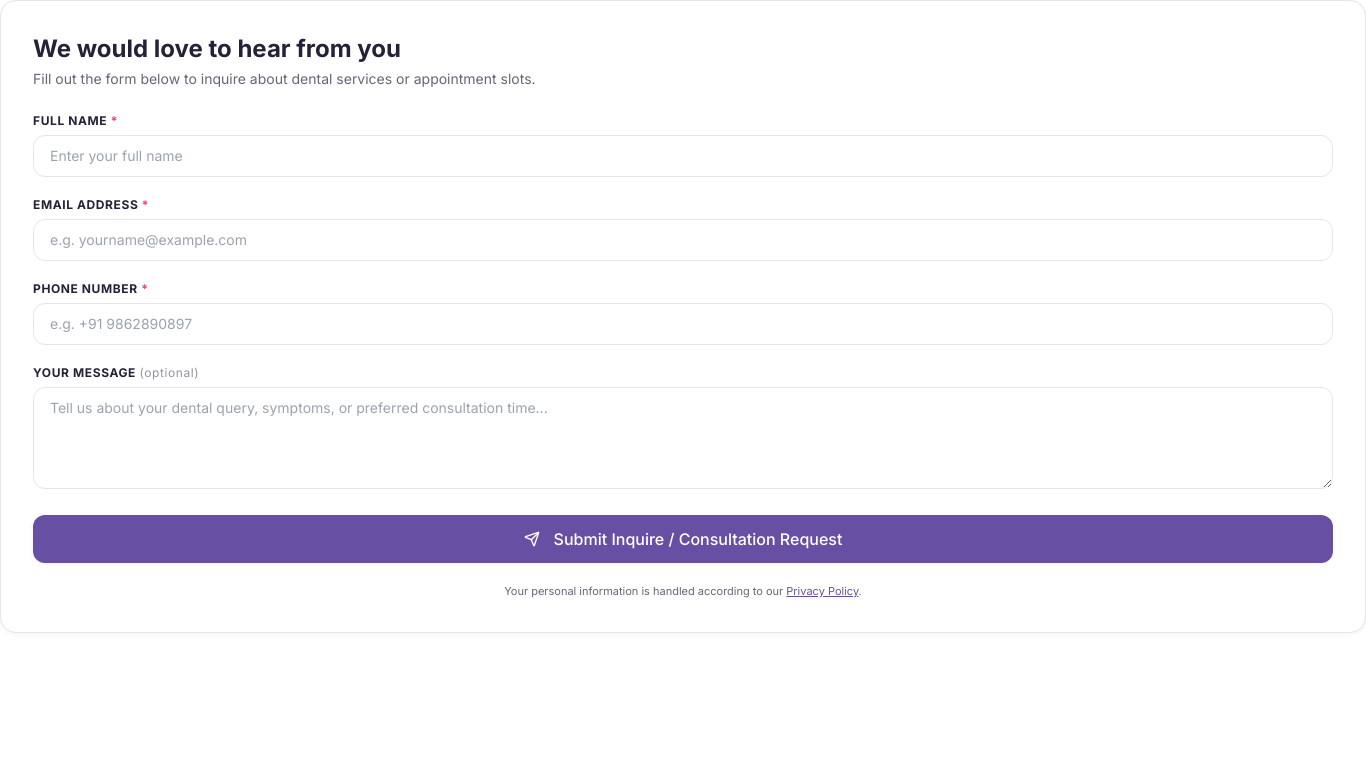
Test case: ContactForm Component › validates invalid email format
Type "invalid-email" into the field labelled "Email Address *".
click(683, 240); type("invalid-email")  # box [33, 219, 1333, 261]
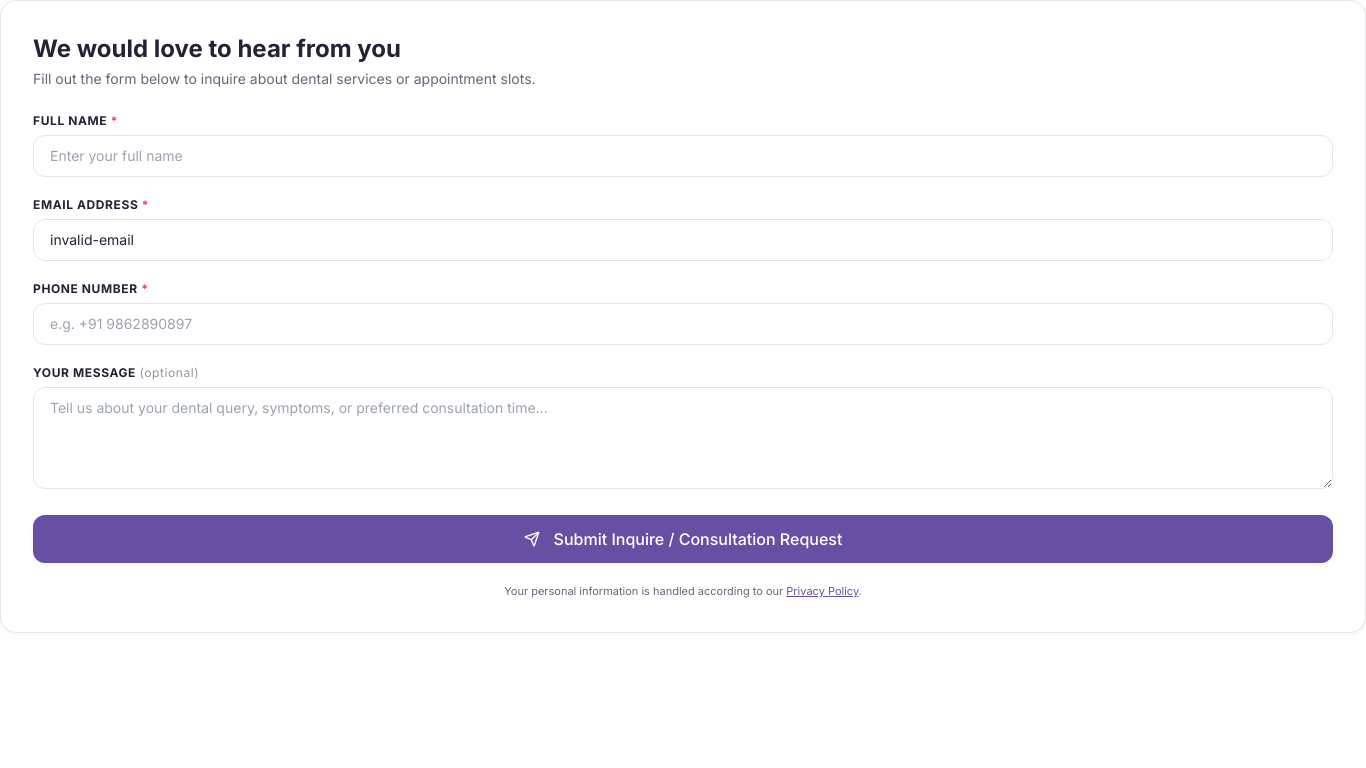
Click the button "Submit Inquire / Consultation Request".
click(683, 539)  # box [33, 515, 1333, 563]
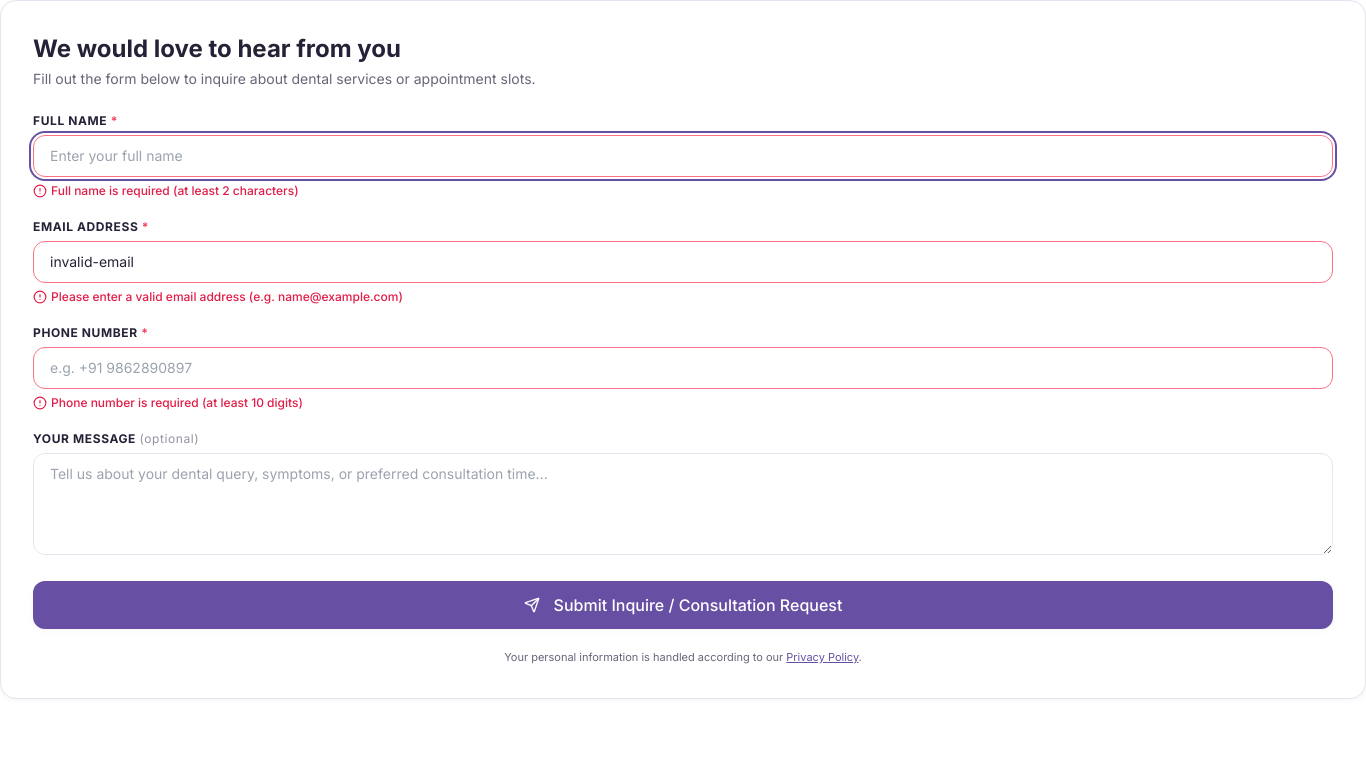
Result: the text "Please enter a valid email address (e.g. name@example.com)" is shown at [33, 289, 403, 304]
